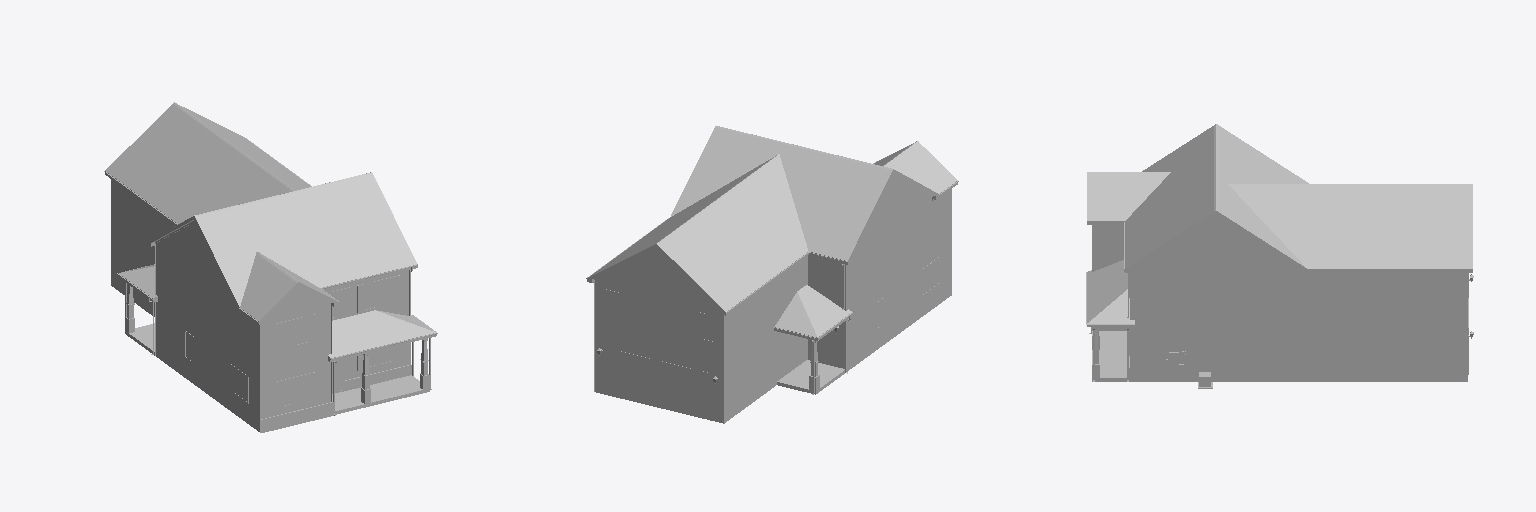
The model's file is house2.obj.
3 renders of one model, left to right at view 1: azimuth 30°, elevation 25°; view 2: azimuth 150°, elevation 25°; view 3: azimuth 270°, elevation 25°, orthographic.
Visible parts, largest first — view 1: house_04; view 2: house_04; view 3: house_04.
Part boxes in pixels (left/top/right/bottom): house_04: left=104, top=102, right=437, bottom=432; house_04: left=586, top=126, right=958, bottom=423; house_04: left=1086, top=124, right=1473, bottom=388.
Bounding box in the file's own units: 7.21 × 6.3 × 12.78.